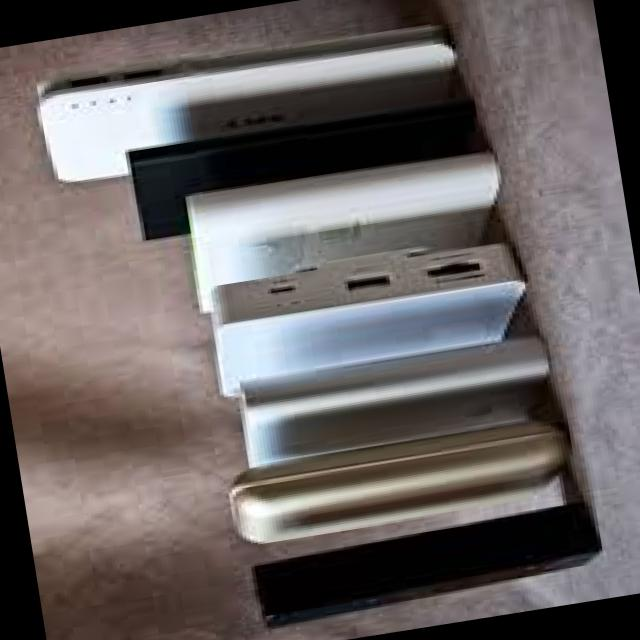power_bank: (34, 16, 472, 190), (174, 141, 524, 320), (222, 328, 574, 482), (198, 238, 536, 396), (126, 94, 482, 243), (250, 493, 618, 633), (228, 422, 568, 555)
